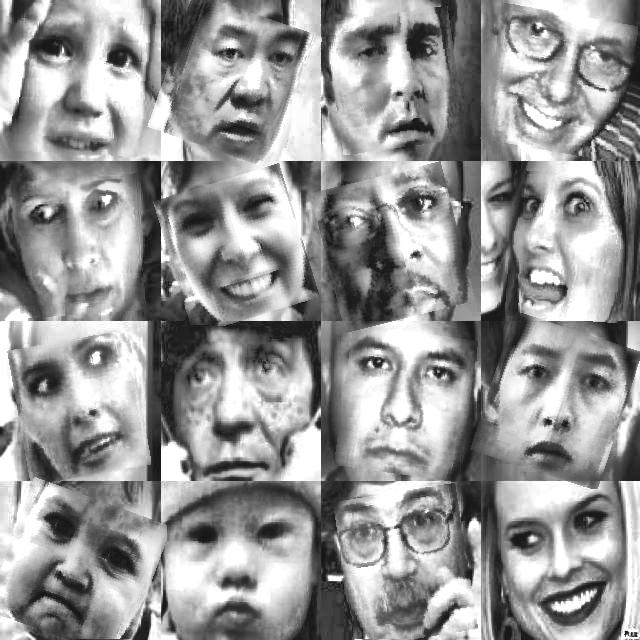angry: (156, 2, 312, 162), (480, 320, 632, 482)
fear: (13, 3, 155, 156), (13, 334, 146, 481), (14, 175, 144, 316)
happy: (0, 487, 160, 640), (318, 168, 468, 326), (162, 171, 312, 327), (494, 489, 640, 640), (486, 9, 633, 157), (508, 172, 626, 322)
neutral: (338, 487, 473, 640), (338, 327, 474, 478), (165, 500, 307, 640), (168, 325, 304, 471)
sad: (330, 10, 462, 152)
